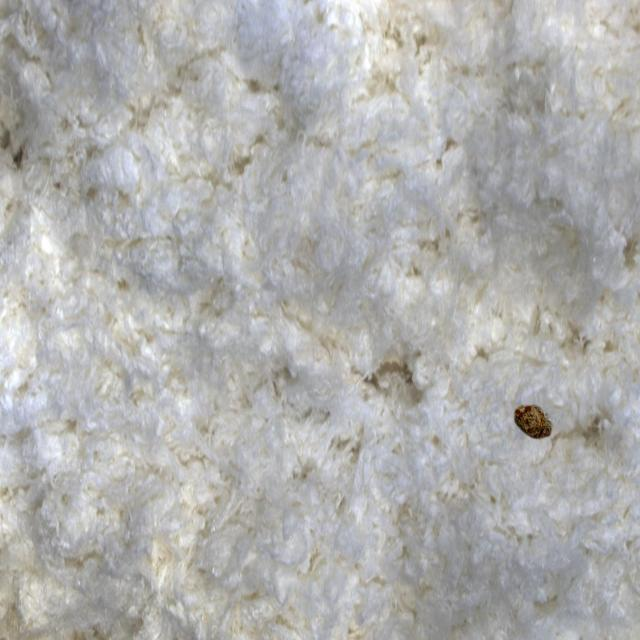dust: (502, 370, 576, 484)
